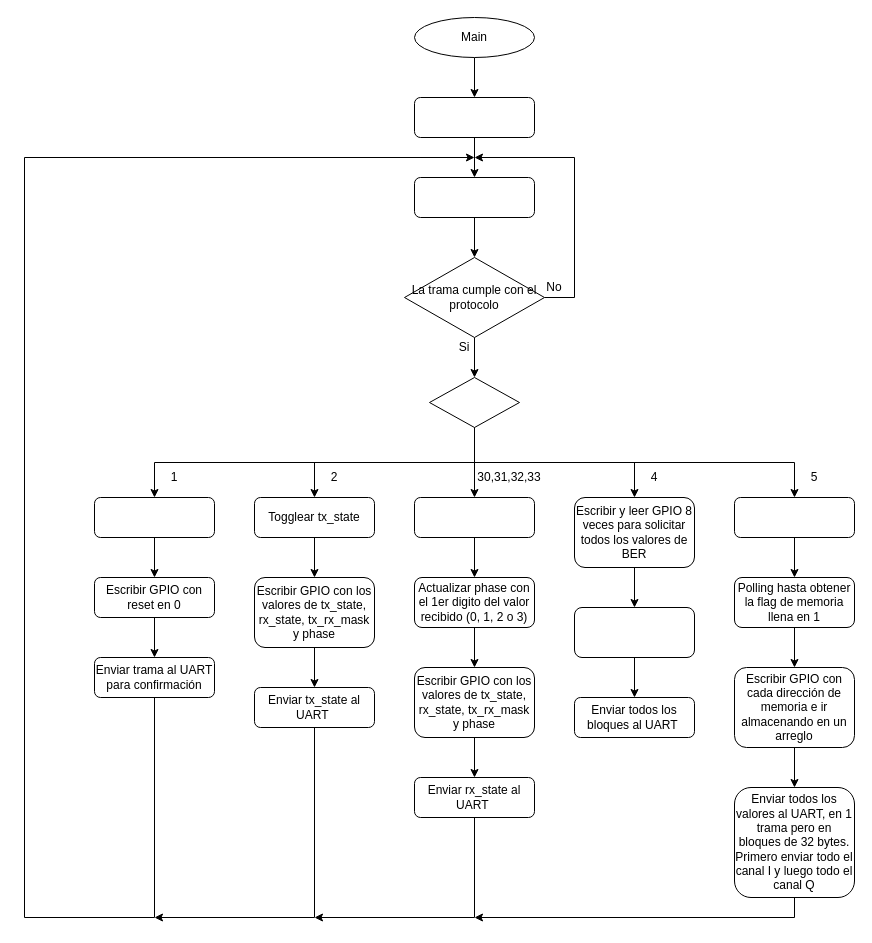
This 872x943 diagram has some shape labels left out. Each missing label, with the centre of its shape:
"Entrar en bucle hasta recibir 4 bytes" goes at (474,197).
"Escribir GPIO con reset en 1" goes at (154,517).
"Escribir GPIO para comenzar el logueo" goes at (794,517).
"Inicializar plataforma, UART y GPIO" goes at (474,117).
"Separar cada valor obtenido en bloques de 1 byte" goes at (634,632).
"Togglear rx_state" goes at (474,517).
"Valor recibido" goes at (474,402).
